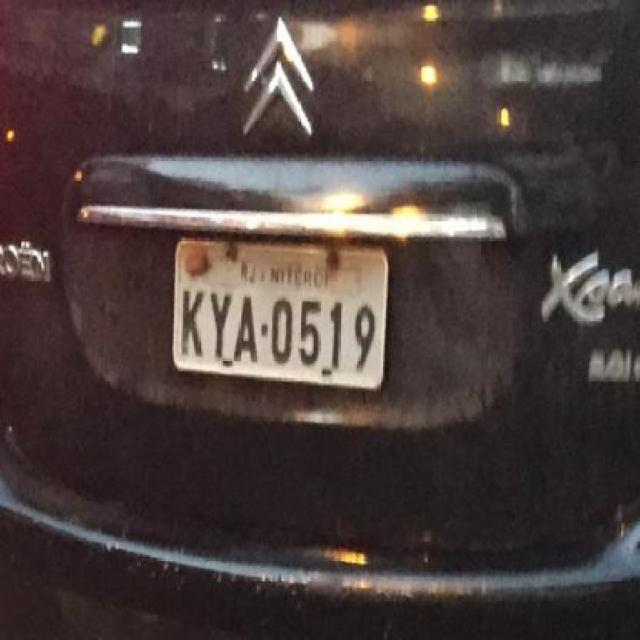old_plate: (169, 234, 393, 398)
